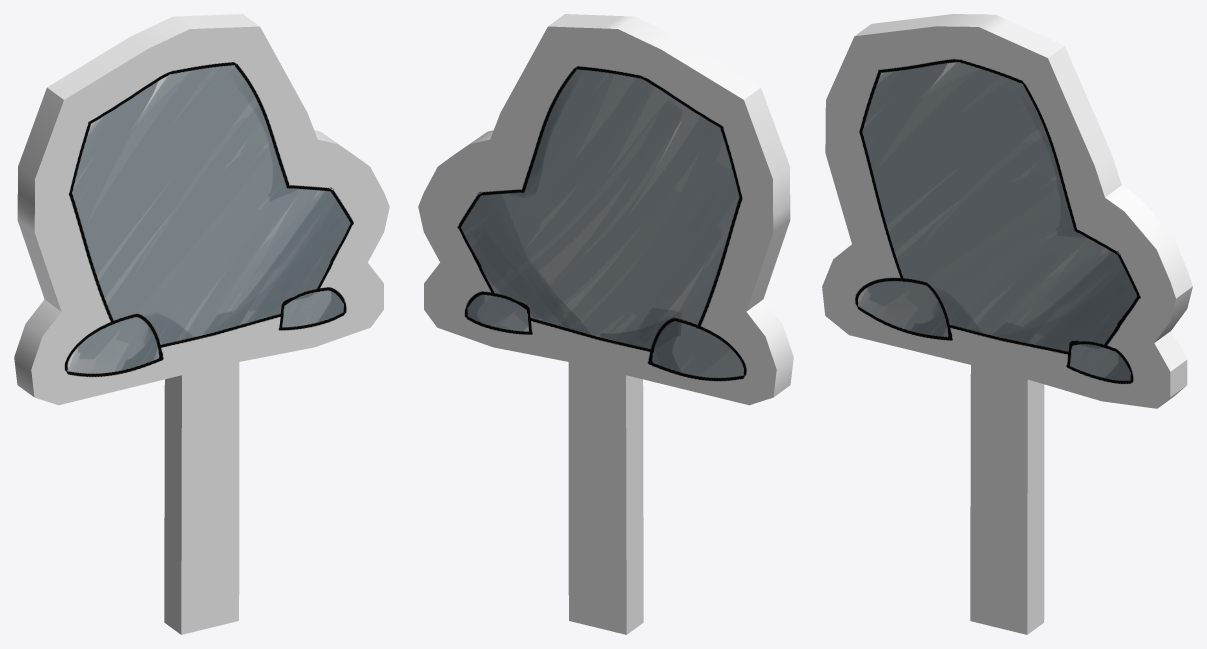
File: rock.fbx
3 renders of one model, left to right at view 1: azimuth 30°, elevation 25°; view 2: azimuth 150°, elevation 25°; view 3: azimuth 330°, elevation 25°, orthographic.
Parts seen in each view (by area): view 1: rock; view 2: rock; view 3: rock.
Part boxes in pixels (x1=…): rock: x1=14, y1=14, x2=389, y2=634; rock: x1=418, y1=14, x2=793, y2=634; rock: x1=822, y1=14, x2=1192, y2=634.
Bounding box in the file's own units: 9.92 × 15.95 × 0.8179.
